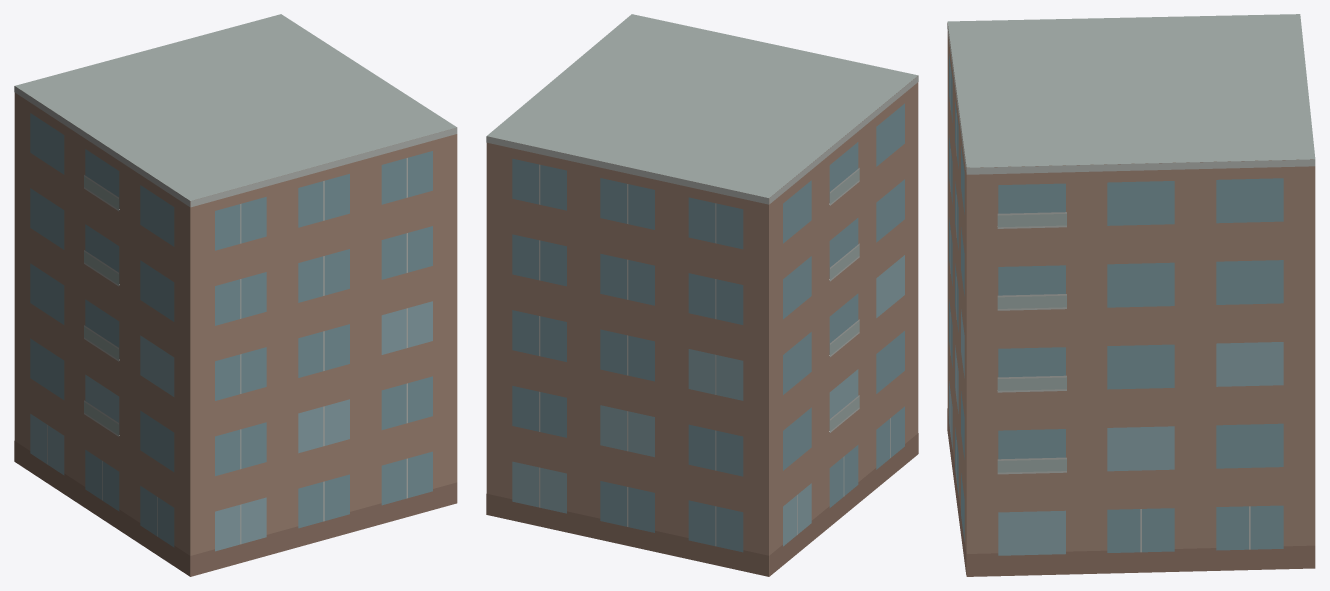
Rendered from survey-upis-32884990.glb.
3 views of the same model, side by side, from view 1: azimuth 30°, elevation 25°; view 2: azimuth 150°, elevation 25°; view 3: azimuth 270°, elevation 25° (orthographic). The views are drawn at different scales.
Visible parts, largest first — view 1: survey-upis-32884990.tmp; view 2: survey-upis-32884990.tmp; view 3: survey-upis-32884990.tmp.
Boxes of the visible parts, x1,y1,x2,y2 form: survey-upis-32884990.tmp: (14, 14, 457, 576); survey-upis-32884990.tmp: (486, 14, 918, 576); survey-upis-32884990.tmp: (947, 14, 1315, 576).
Bounding box in the file's own units: 11.5 × 14.25 × 11.62.
